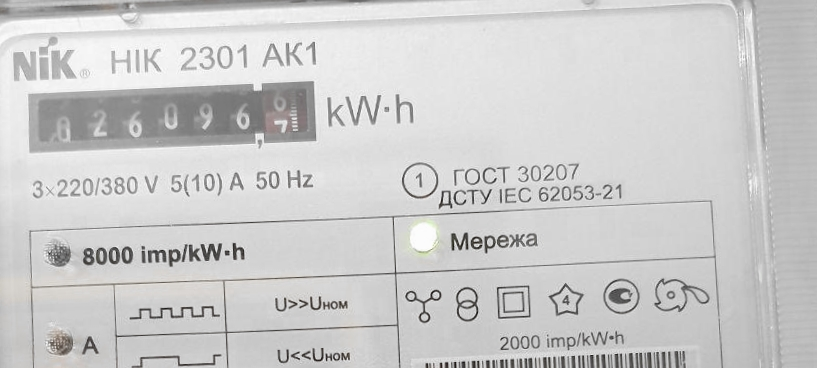0: (159, 98, 180, 134), (51, 111, 73, 143)
2: (87, 105, 110, 141)
6: (124, 105, 145, 141), (232, 98, 251, 131), (268, 86, 289, 114)
7: (271, 115, 290, 137)
9: (195, 99, 215, 132)
screen: (16, 70, 324, 165)
